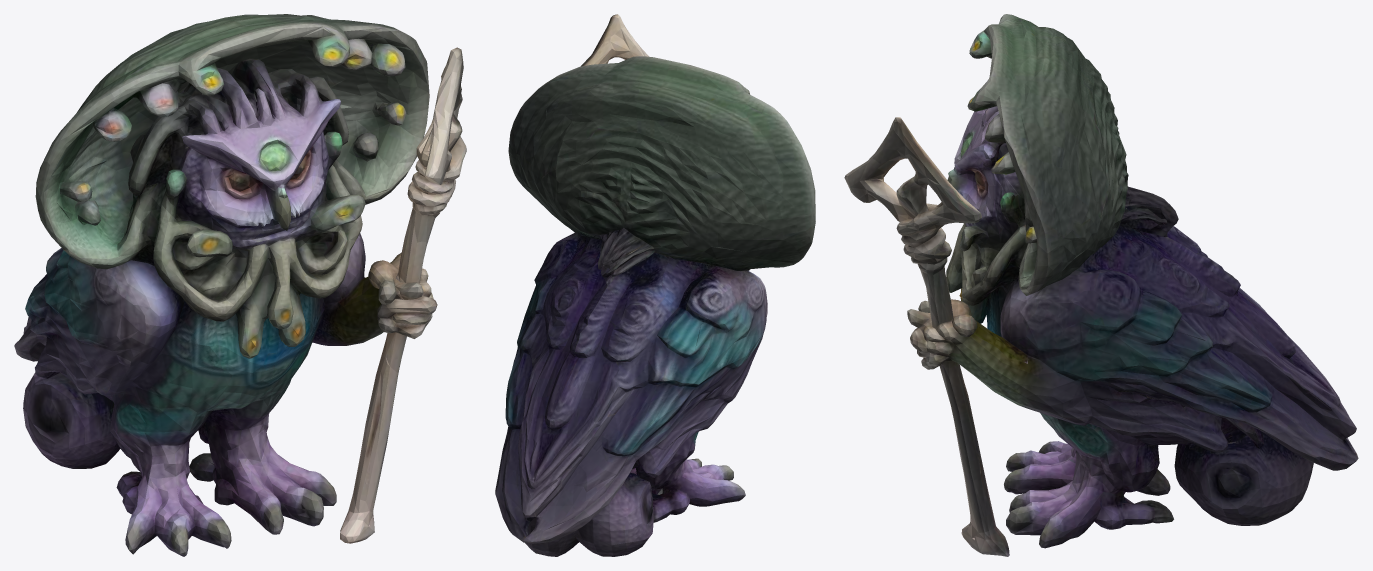
Rendered from nightveil__venomSeer.glb.
3 views of the same model, side by side, from view 1: azimuth 30°, elevation 25°; view 2: azimuth 150°, elevation 25°; view 3: azimuth 270°, elevation 25° (orthographic). The views are drawn at different scales.
Parts seen in each view (by area): view 1: world; view 2: world; view 3: world.
Boxes of the visible parts, x1,y1,x2,y2 form: world: (14, 14, 466, 556); world: (495, 14, 815, 556); world: (844, 14, 1358, 556).
Size of the model in its own units: 0.781 by 0.9995 by 1.
1 material, 1 textured.
